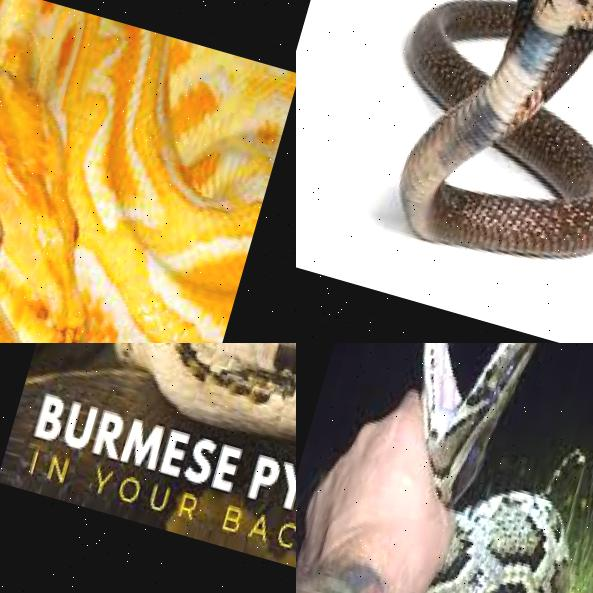snake: (0, 0, 296, 343), (351, 0, 593, 311), (0, 343, 296, 593), (299, 343, 593, 593)
